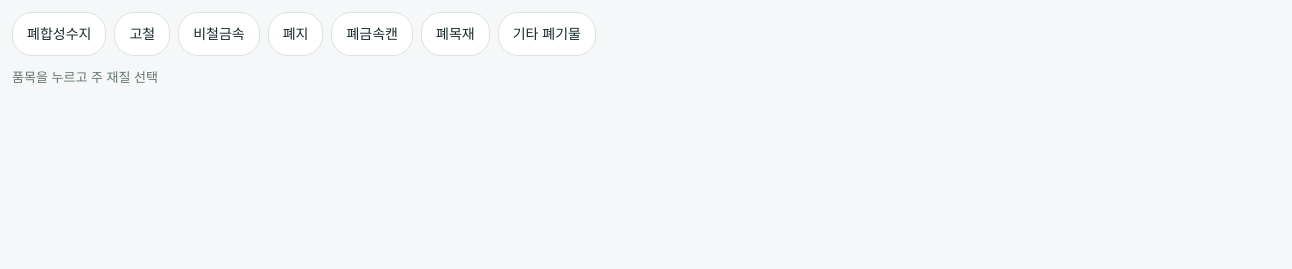
Test: 목록에 없는 재질도 직접 입력해 추가
Click the button "기타 폐기물" at (547, 34), box [498,12,596,56]
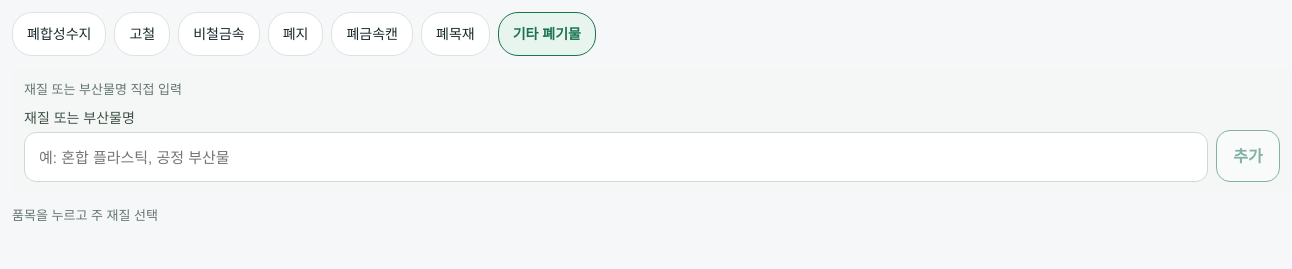
Type "  공정 부산물  " into the field labelled "재질 또는 부산물명" at (616, 157), box [24,132,1208,182]
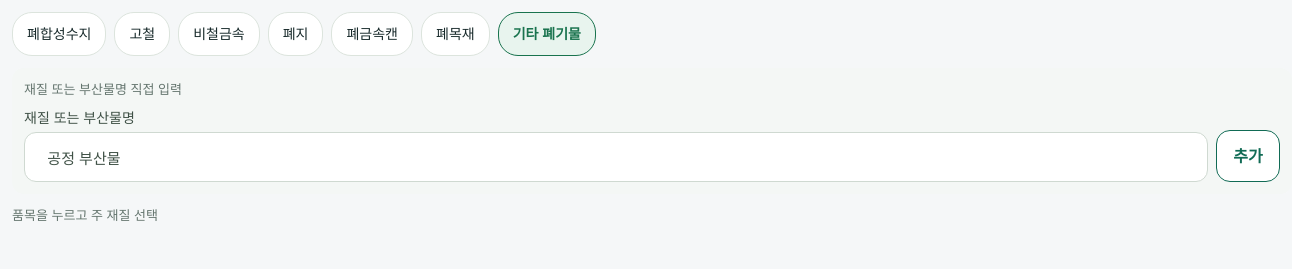
Click the button with aria-label "품목 추가" at (1248, 156), box [1216,130,1280,182]
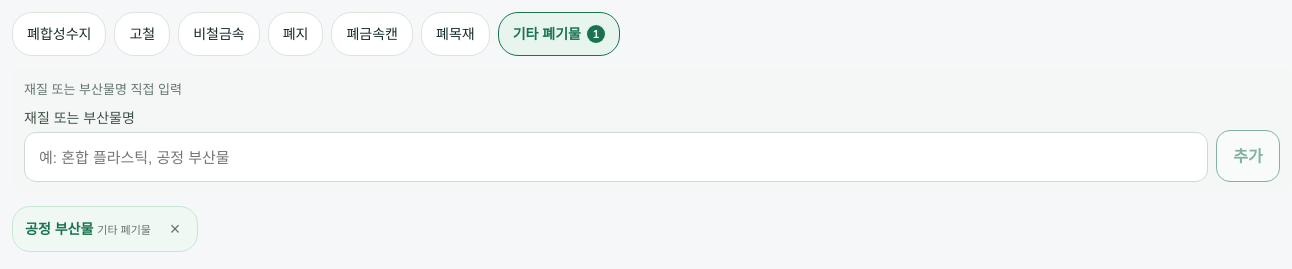
expect the text "공정 부산물" is shown: met, box [25,221,93,237]
